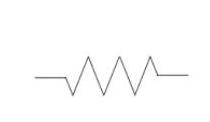resistor: (49, 51, 165, 97)
